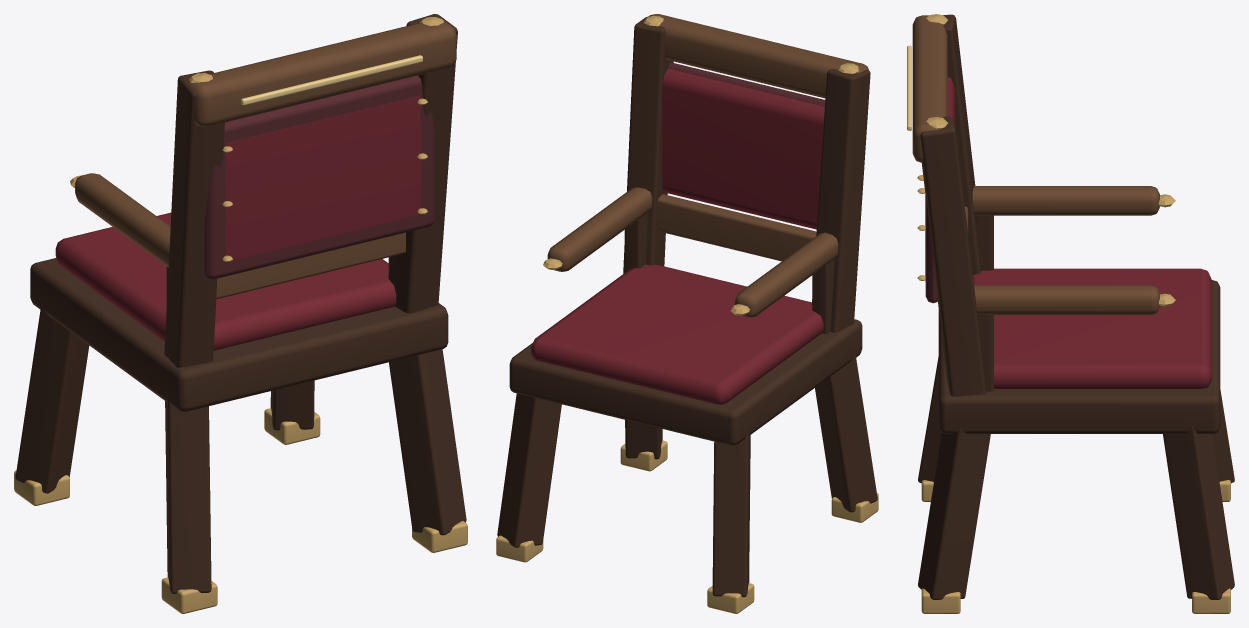
Rendered from SM_Liars_Chair.fbx.
3 renders of one model, left to right at view 1: azimuth 30°, elevation 25°; view 2: azimuth 150°, elevation 25°; view 3: azimuth 270°, elevation 25°, orthographic. The views are drawn at different scales.
Parts seen in each view (by area): view 1: SM_Liars_Chair; view 2: SM_Liars_Chair; view 3: SM_Liars_Chair.
Part boxes in pixels (x1,y1,x2,y2): SM_Liars_Chair: (14, 14, 467, 613); SM_Liars_Chair: (496, 14, 878, 613); SM_Liars_Chair: (907, 14, 1234, 613).
Size of the model in its own units: 62.09 by 65.2 by 106.
